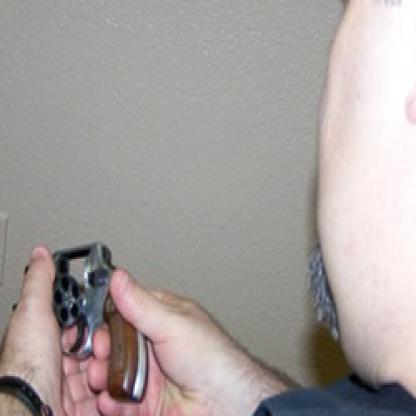gun: (13, 239, 148, 407)
